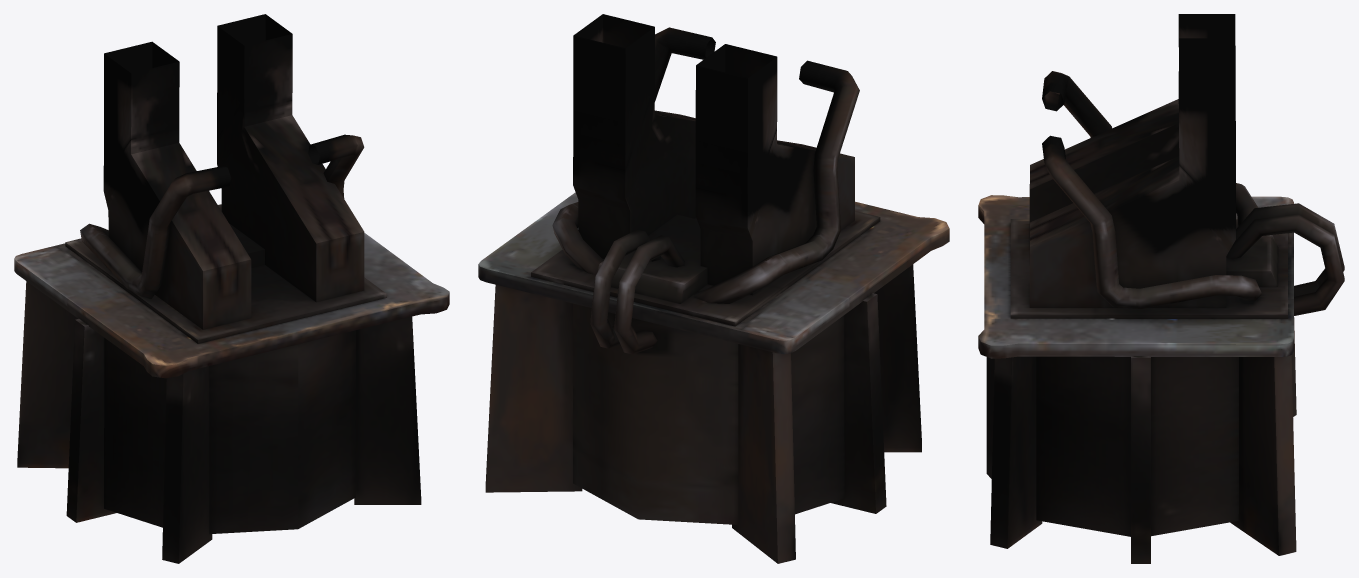
File: 一号飞船实验_机枪身.FBX
The picture shows the model from 3 angles, left to right: view 1: azimuth 30°, elevation 25°; view 2: azimuth 150°, elevation 25°; view 3: azimuth 270°, elevation 25°; orthographic projection. The views are drawn at different scales.
Parts seen in each view (by area): view 1: Object273; view 2: Object273; view 3: Object273.
Boxes of the visible parts, x1,y1,x2,y2 form: Object273: [14, 14, 449, 563]; Object273: [478, 14, 949, 563]; Object273: [978, 14, 1344, 563].
Bounding box in the file's own units: 0.9381 × 1.18 × 0.9092.
